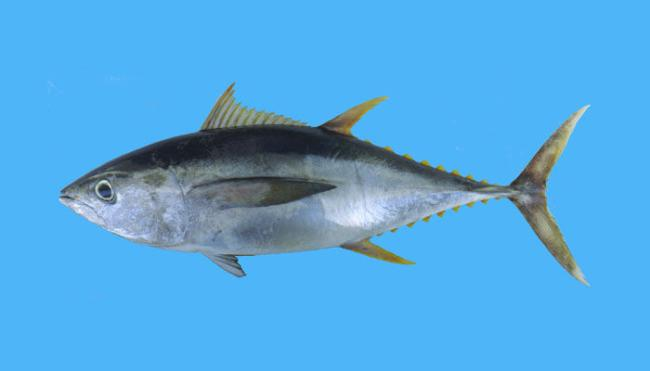fish: (57, 79, 593, 288)
